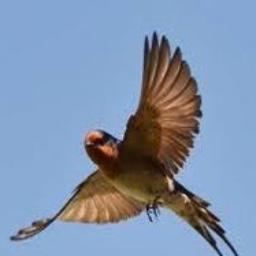Swallow: (8, 32, 240, 256)
